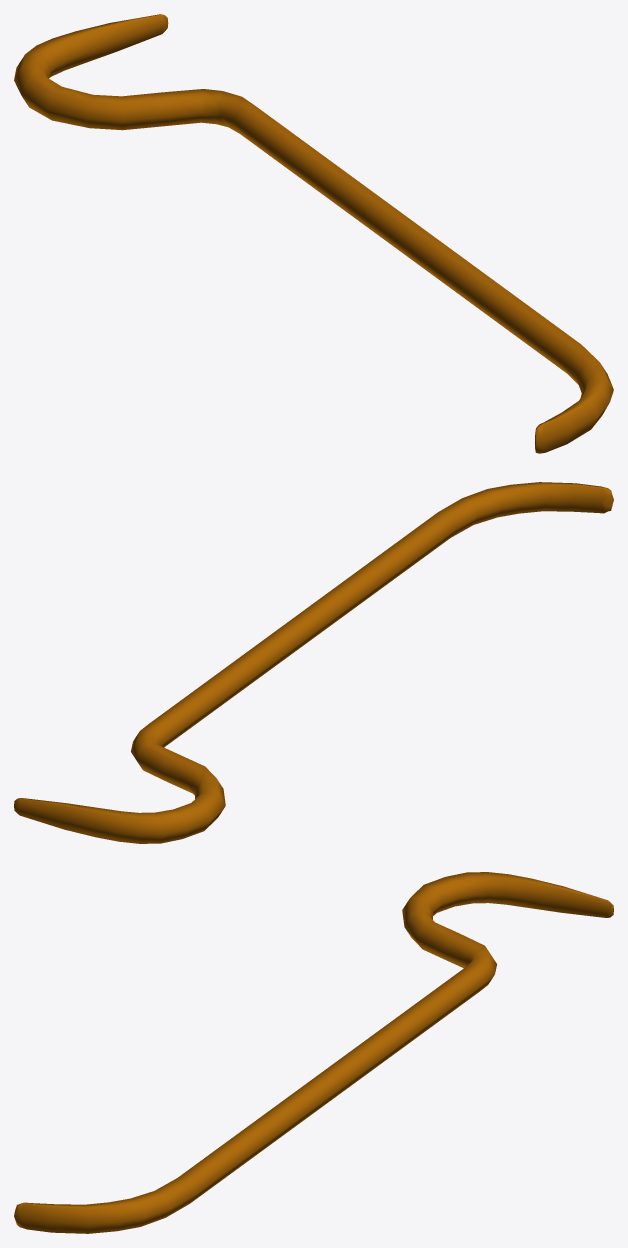
File: Mod_scrap_LODs.fbx
3 views of the same model, one above another, from view 1: azimuth 30°, elevation 25°; view 2: azimuth 150°, elevation 25°; view 3: azimuth 330°, elevation 25° (orthographic). The views are drawn at different scales.
Parts seen in each view (by area): view 1: scrap_LOD0; view 2: scrap_LOD0; view 3: scrap_LOD0.
Boxes of the visible parts, x1=… form: scrap_LOD0: x1=14, y1=14, x2=613, y2=453; scrap_LOD0: x1=14, y1=482, x2=613, y2=843; scrap_LOD0: x1=14, y1=872, x2=613, y2=1233.
Size of the model in its own units: 20.22 by 3.02 by 100.
